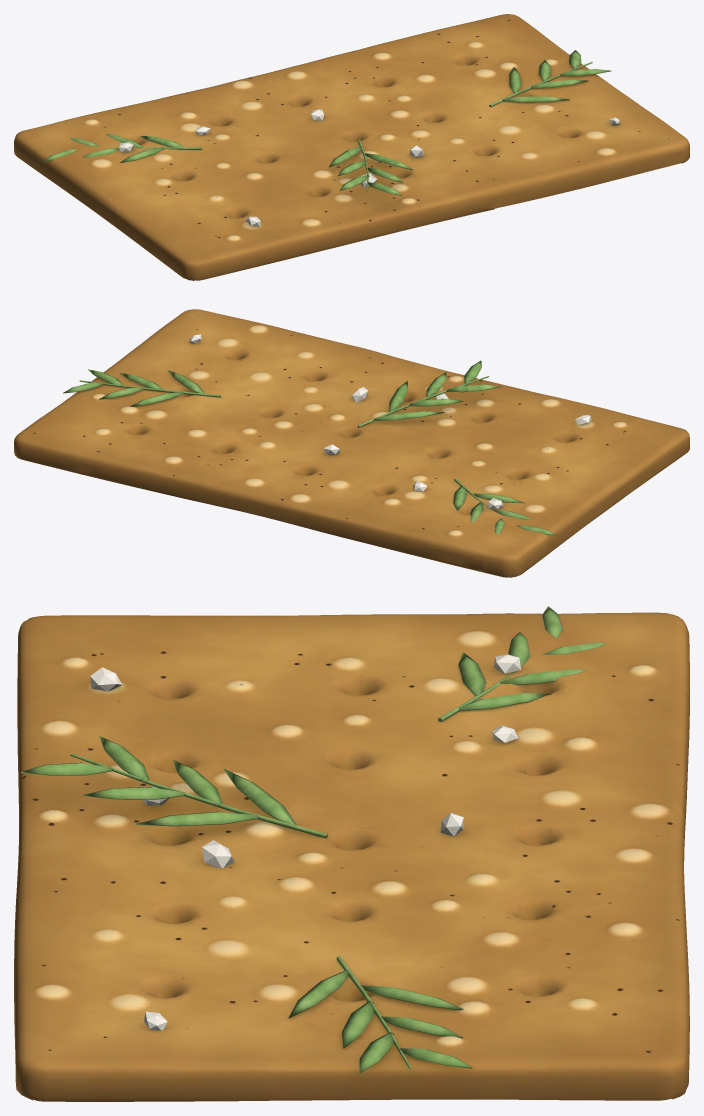
File: cracker--rosemary-sprig.glb
3 renders of one model, top to bottom at view 1: azimuth 30°, elevation 25°; view 2: azimuth 150°, elevation 25°; view 3: azimuth 270°, elevation 25°, orthographic. The views are drawn at different scales.
Parts seen in each view (by area): view 1: cracker_rosemary-sprig; view 2: cracker_rosemary-sprig; view 3: cracker_rosemary-sprig.
Boxes of the visible parts, bbox=[...] form: cracker_rosemary-sprig: bbox=[14, 14, 689, 280]; cracker_rosemary-sprig: bbox=[14, 309, 689, 577]; cracker_rosemary-sprig: bbox=[14, 606, 689, 1101].
Bounding box in the file's own units: 1.03 × 0.0739 × 0.6266.
1 material, 1 textured.
